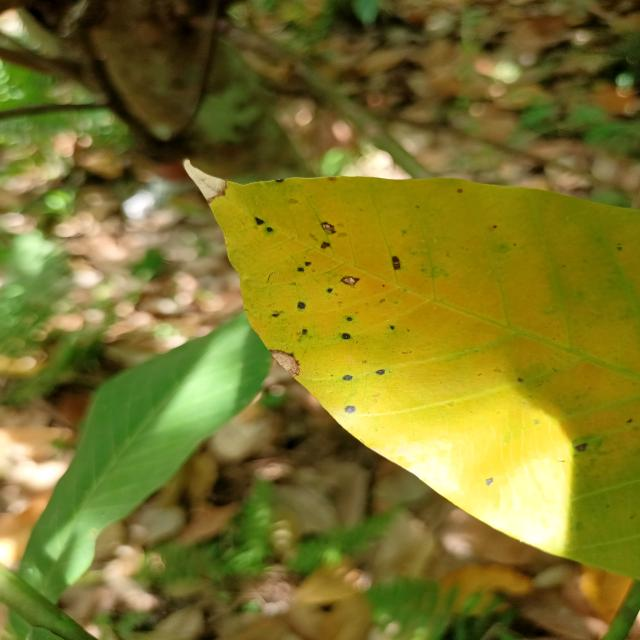Colletotrichum: (341, 276, 356, 286), (345, 406, 356, 414), (342, 332, 352, 340), (321, 241, 331, 249), (297, 302, 306, 309), (256, 218, 264, 225), (376, 369, 385, 375), (343, 375, 352, 381), (267, 227, 273, 232), (297, 268, 304, 272), (327, 288, 332, 293), (305, 262, 311, 266), (347, 317, 352, 321), (390, 326, 395, 330)
Leaf-Blight: (184, 160, 227, 203), (271, 351, 298, 376)
